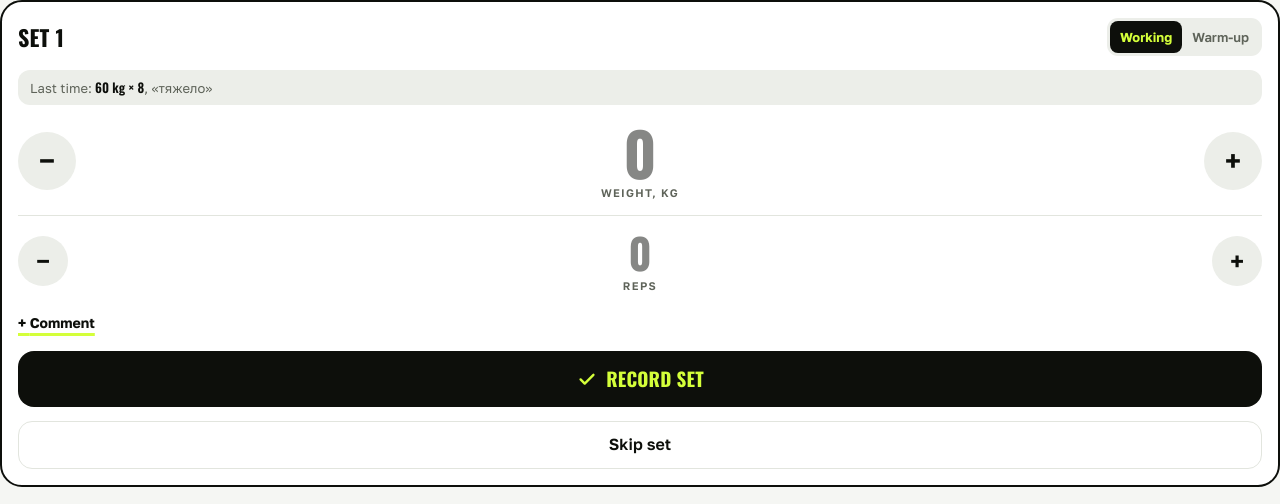
Test: SetEntry › shows what was done in the matching set last time, per set type
The image size is (1280, 504).
Expected: the text "60 kg × 8" is shown, [95,77,144,97]
Expected: the text ", «тяжело»" is shown, [144,80,212,96]
Click the radio button labelled "Warm-up" at [1221, 37], box [1182,21,1259,53]
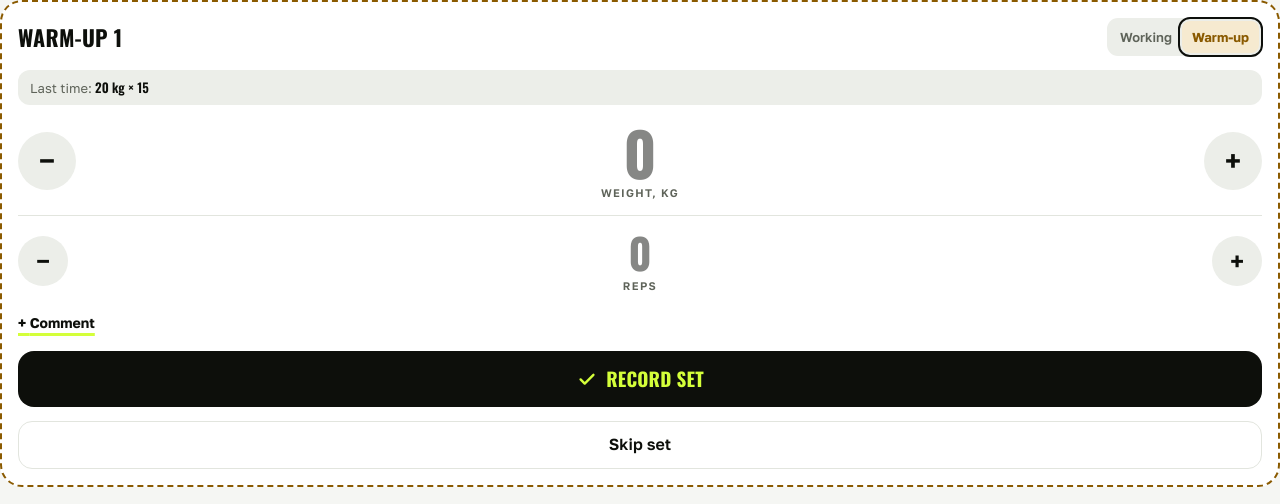
Expected: the text "20 kg × 15" is shown, [95,77,149,97]
